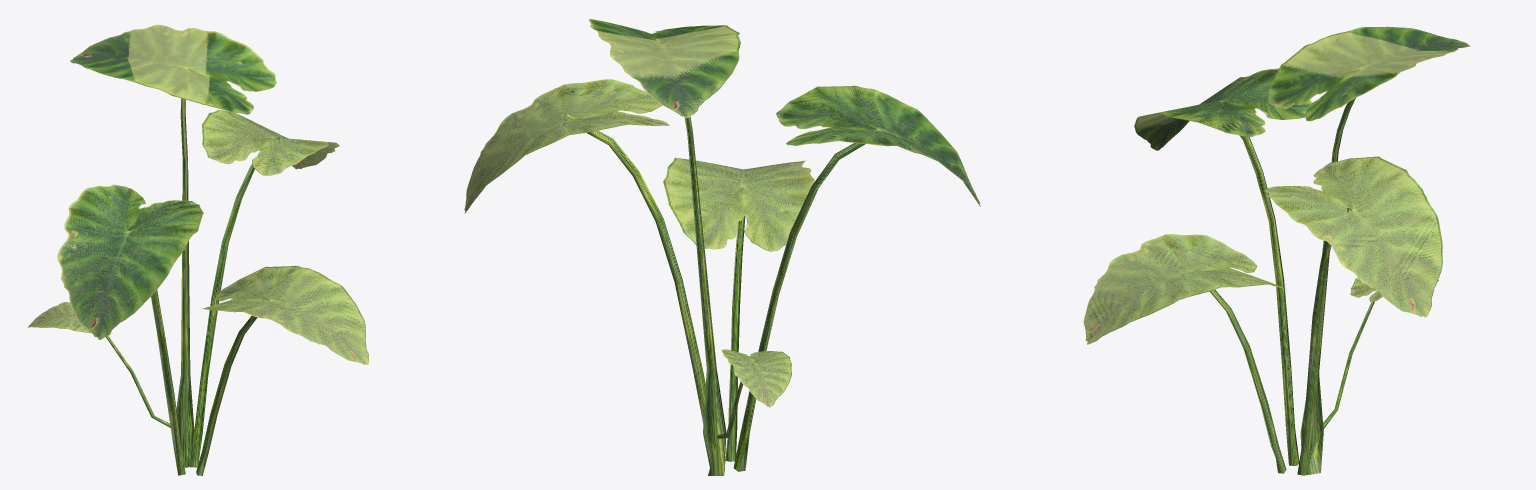
The model's file is S_Plant_ElephantEar_2.fbx.
3 views of the same model, side by side, from view 1: azimuth 30°, elevation 25°; view 2: azimuth 150°, elevation 25°; view 3: azimuth 270°, elevation 25° (orthographic). The views are drawn at different scales.
Parts seen in each view (by area): view 1: S_Plant_ElephantEar_2; view 2: S_Plant_ElephantEar_2; view 3: S_Plant_ElephantEar_2.
Part boxes in pixels (x1,y1,x2,y2): S_Plant_ElephantEar_2: [28, 24, 368, 475]; S_Plant_ElephantEar_2: [464, 19, 980, 475]; S_Plant_ElephantEar_2: [1083, 26, 1470, 475].
Size of the model in its own units: 7.2 by 6.56 by 6.57.
